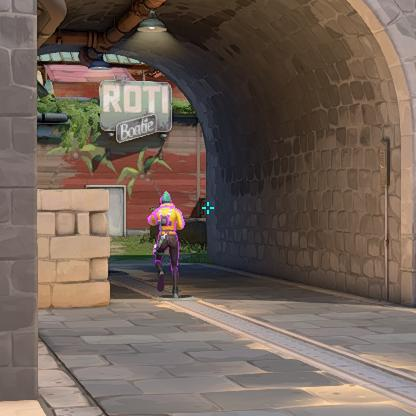enemyBody: (159, 205, 174, 229)
enemyHead: (162, 197, 170, 204)
